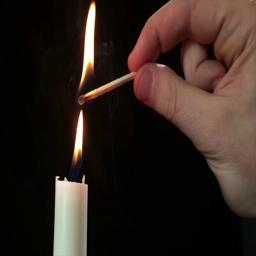fire: (79, 3, 97, 94), (72, 110, 84, 166)
